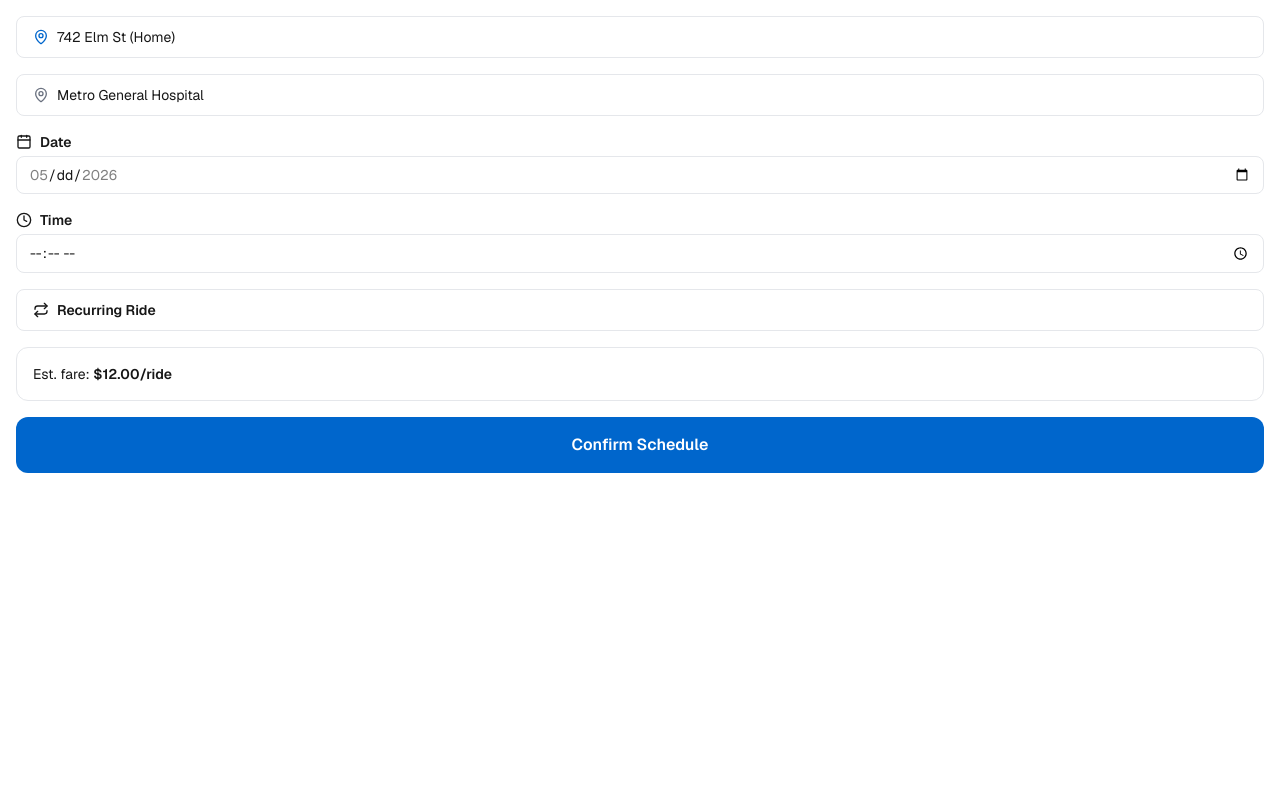
Test case: ScheduleForm › recurring toggle shows day selectors
What coordinates should you click on to do the following:
click the button "Recurring Ride"
I would click on:
 (106, 310)
Its box is [16,289,1264,331].
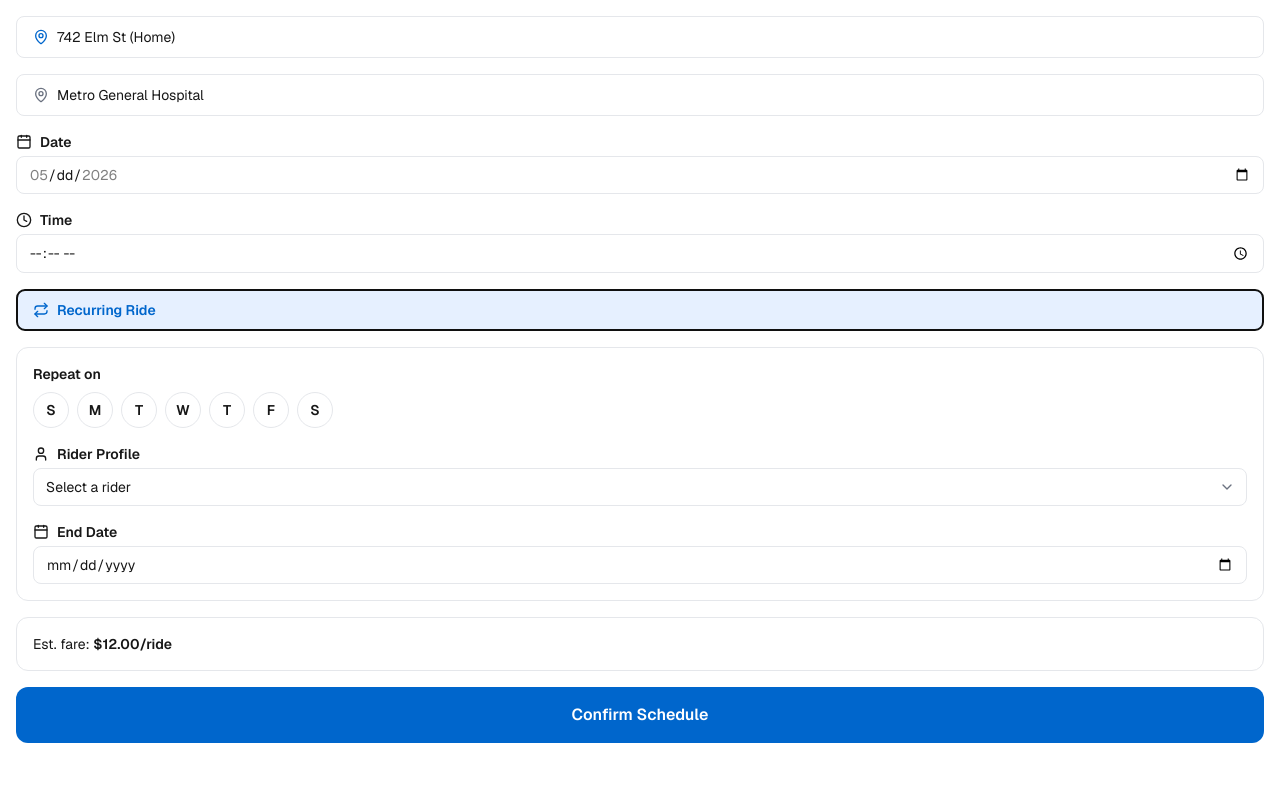
Expected: the button "M" is shown, [77,392,113,428]
Expected: the button "W" is shown, [165,392,201,428]
Expected: the button "F" is shown, [253,392,289,428]
